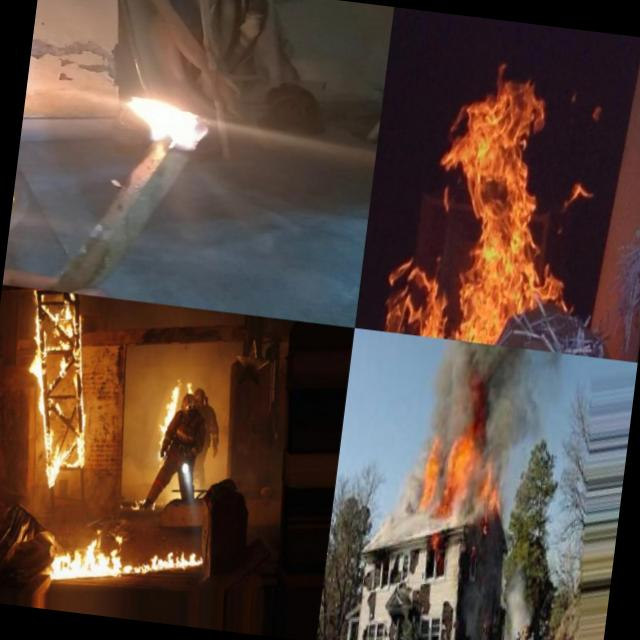fire: (384, 61, 591, 352), (10, 289, 110, 484), (110, 81, 248, 172), (40, 530, 209, 602), (441, 431, 477, 509), (414, 436, 444, 510), (160, 380, 181, 435)
smoke: (416, 338, 558, 448)
